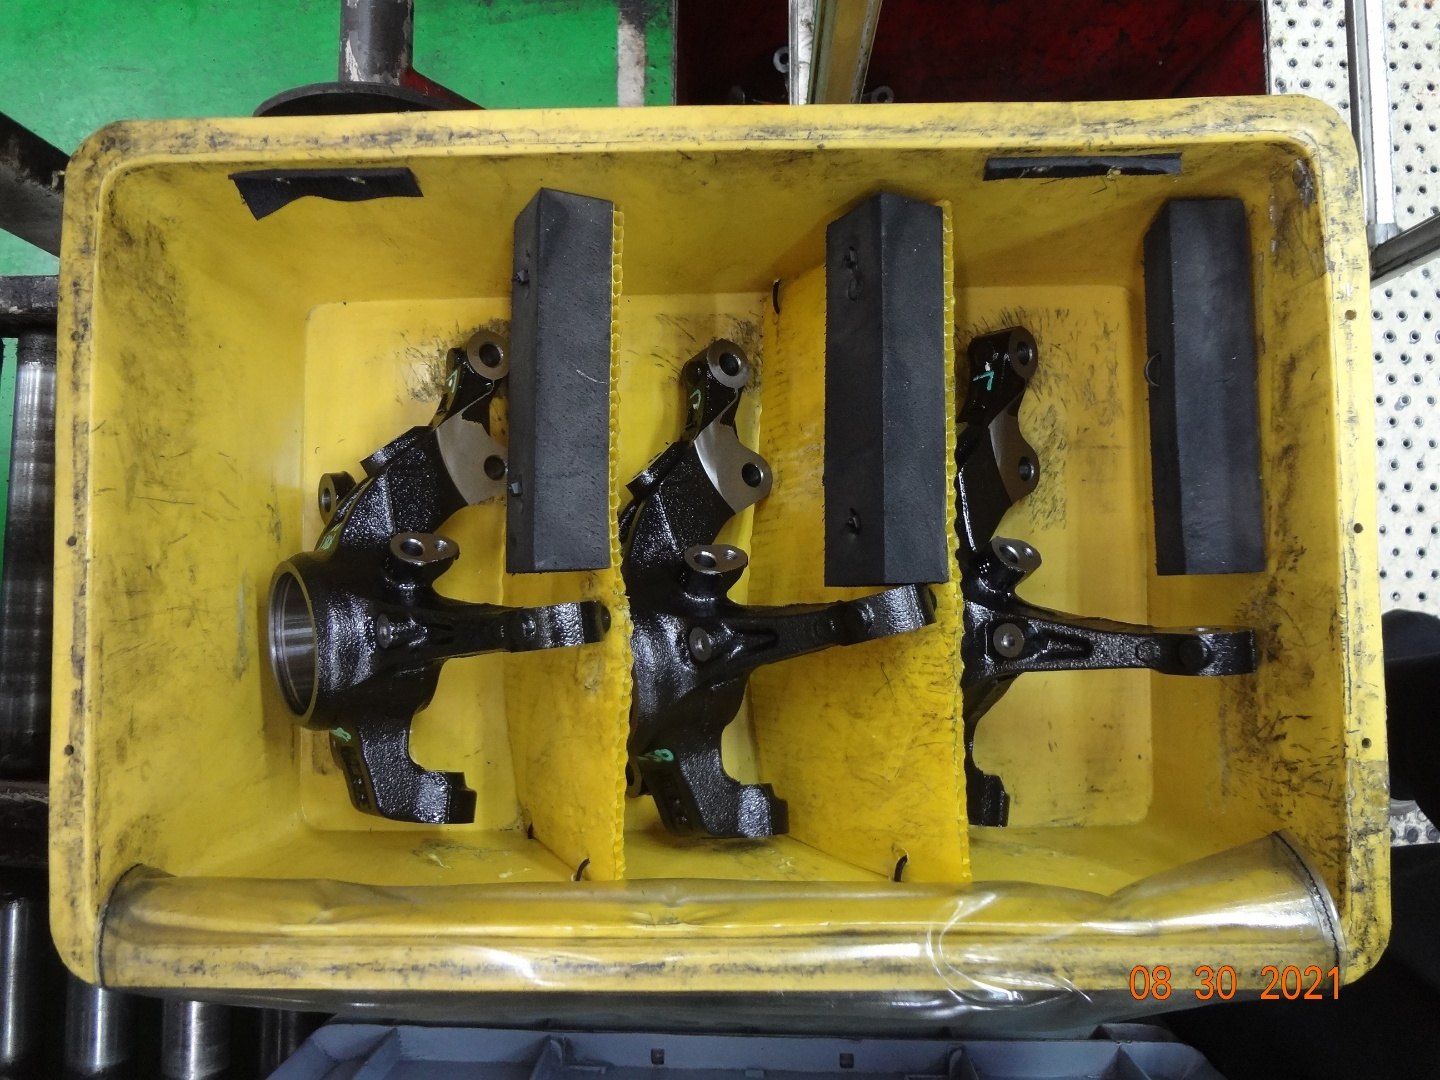abs-lh: (254, 324, 619, 838), (608, 327, 949, 852), (954, 320, 1271, 836)
